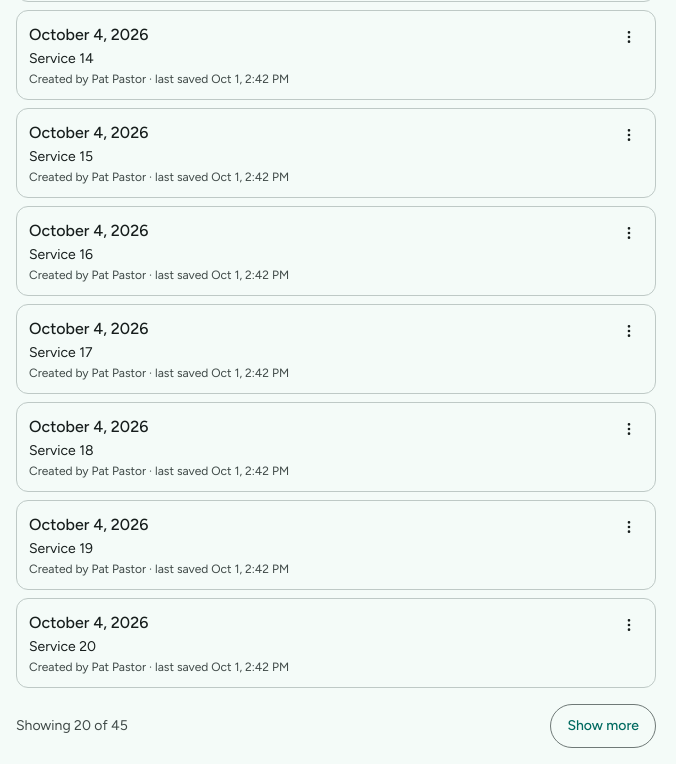
Test case: Services (slice 5a-3) › Show more reads the next 20
The image size is (676, 764).
(page scrolled)
Expected: the text "Showing 20 of 45" is shown, [16,716,128,736]
Click the button "Show more" at (603, 726), box [550,704,656,748]
(page scrolled)
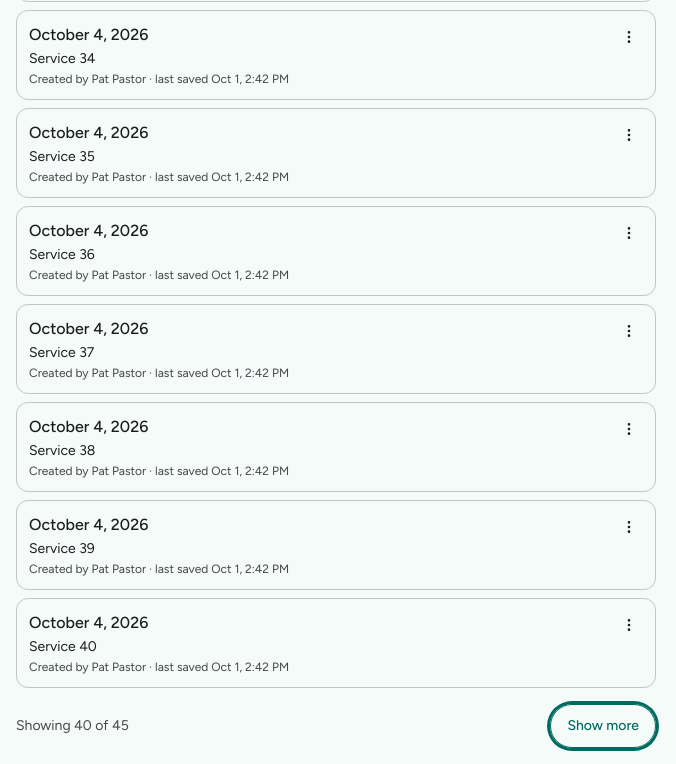
Now the text "Showing 40 of 45" is shown, box [16,716,129,736]
Now the text "Service 40" is shown, box [29,638,97,655]
